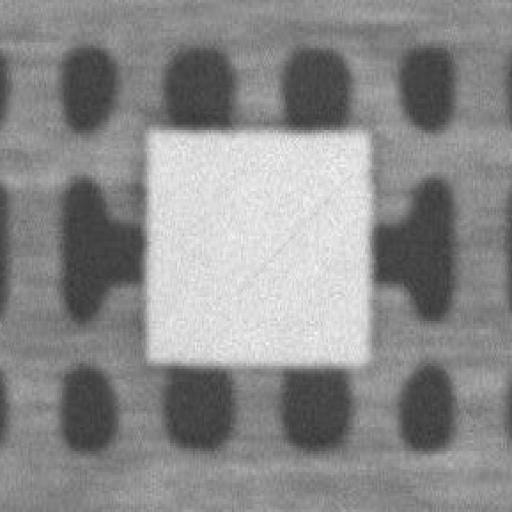DIE_CRACK: (351, 113, 512, 195)
